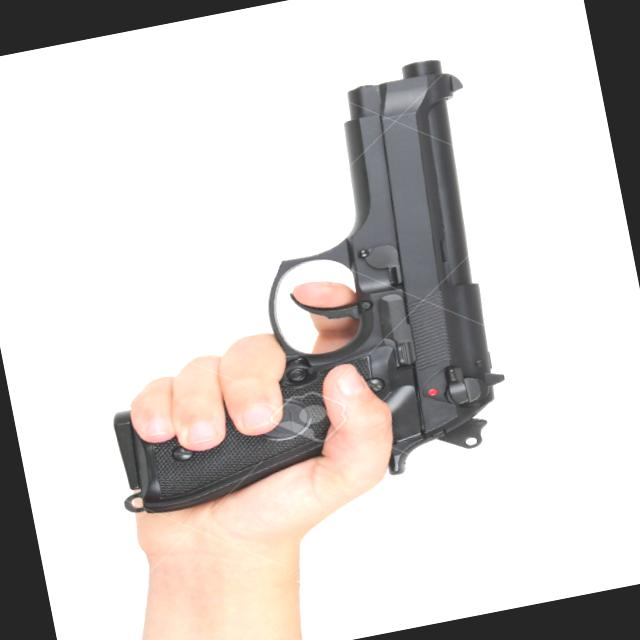handgun: (50, 51, 537, 528)
